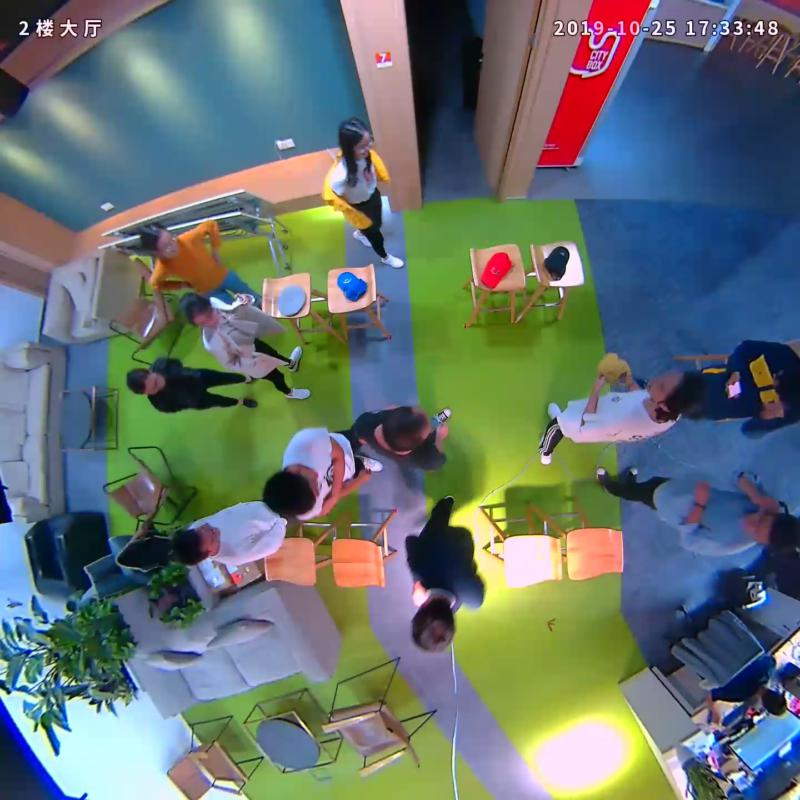head: (645, 370, 706, 416), (262, 471, 321, 516), (741, 509, 800, 552), (412, 596, 456, 652), (382, 405, 432, 451), (172, 523, 219, 564), (177, 292, 219, 330), (139, 221, 180, 258), (339, 117, 373, 160), (126, 366, 165, 396)
